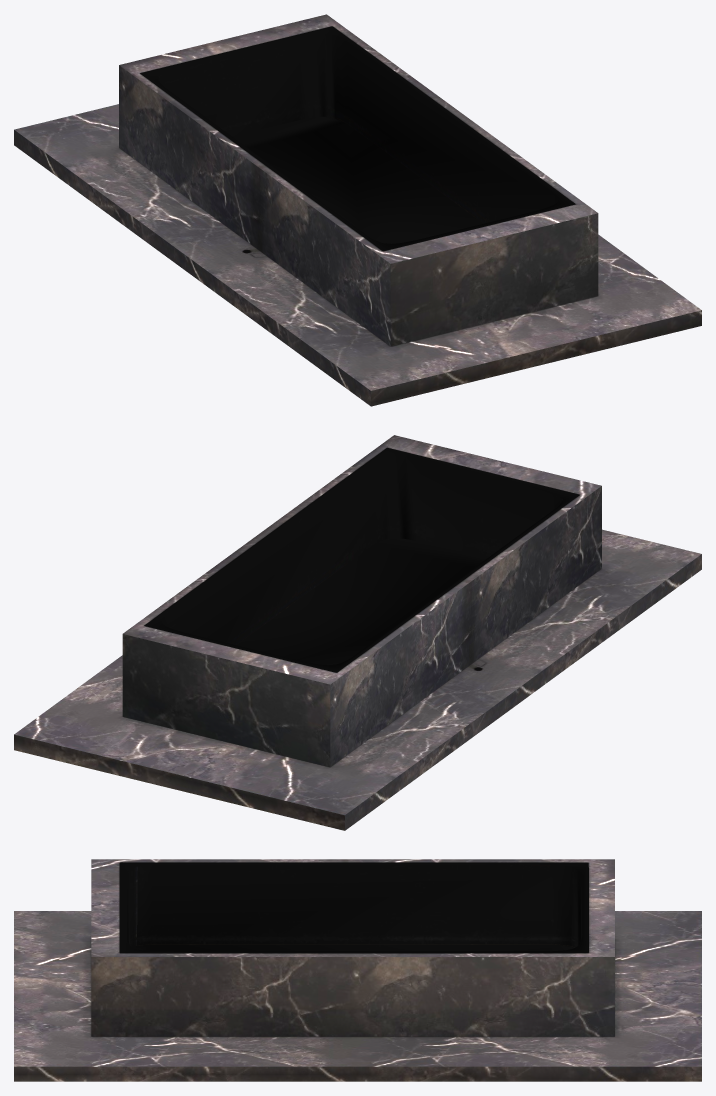
File: Noir_Grey.glb
The picture shows the model from 3 angles, top to bottom: view 1: azimuth 30°, elevation 25°; view 2: azimuth 150°, elevation 25°; view 3: azimuth 270°, elevation 25°; orthographic projection. The views are drawn at different scales.
Visible parts, largest first — view 1: Noir_Grey.001; view 2: Noir_Grey.001; view 3: Noir_Grey.001.
Part boxes in pixels (x1,y1,x2,y2): Noir_Grey.001: (14,14,701,406); Noir_Grey.001: (14,435,701,830); Noir_Grey.001: (14,859,701,1081).
Bounding box in the file's own units: 1.57 × 0.5265 × 2.94.
1 material, 1 textured.
